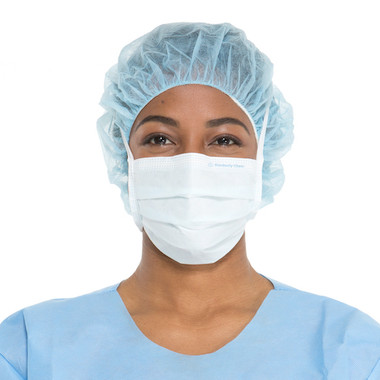with_mask_and_cap: (113, 31, 270, 264)
